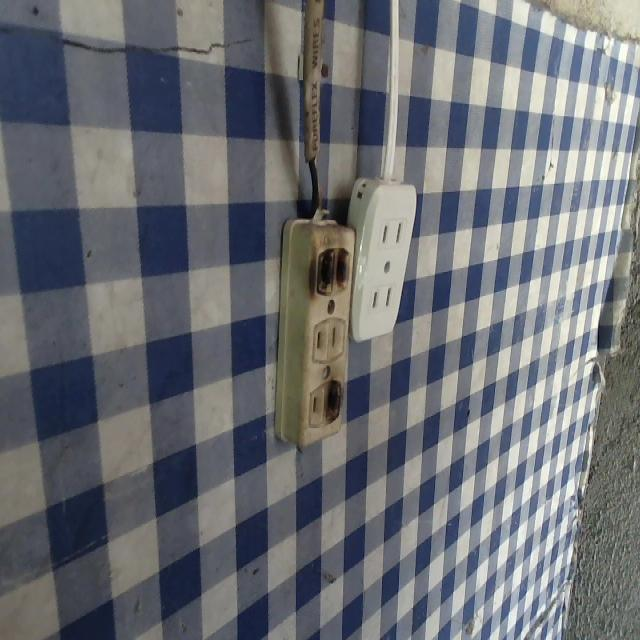-: (313, 244, 351, 295), (323, 376, 342, 431)
